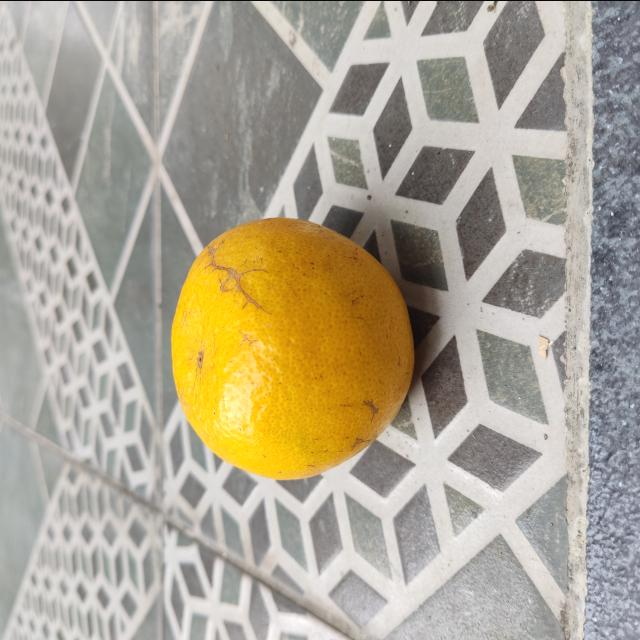orange: (168, 214, 416, 482)
